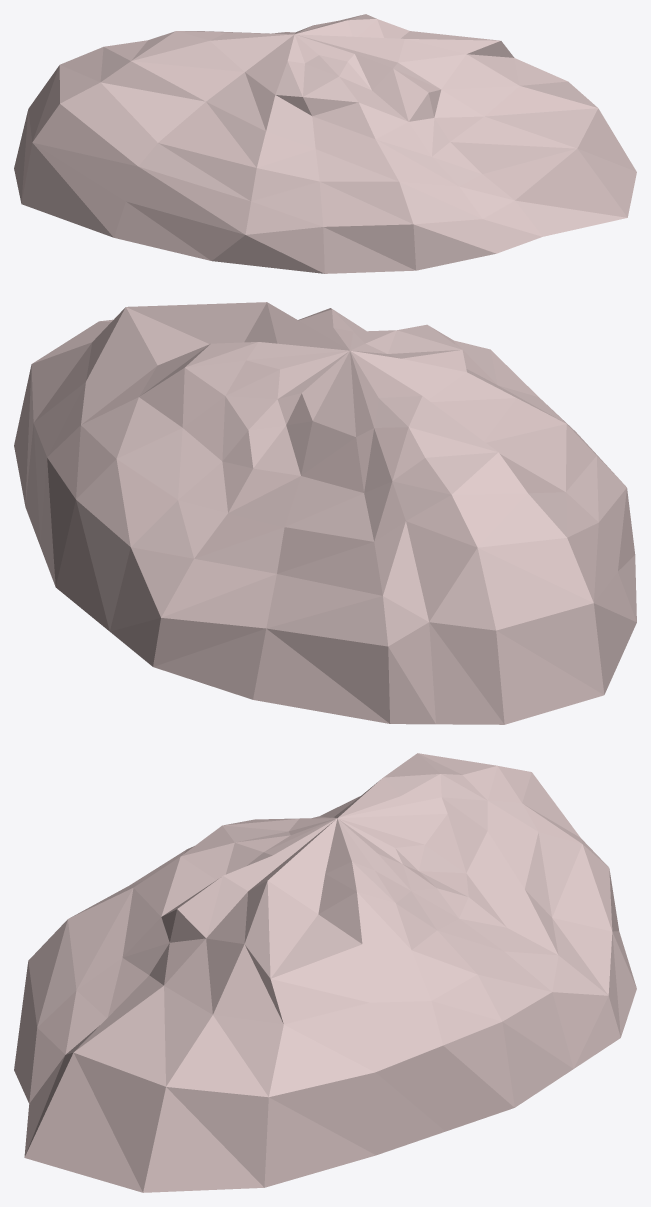
File: Rock.fbx
3 renders of one model, top to bottom at view 1: azimuth 30°, elevation 25°; view 2: azimuth 150°, elevation 25°; view 3: azimuth 270°, elevation 25°, orthographic. The views are drawn at different scales.
Parts seen in each view (by area): view 1: Model; view 2: Model; view 3: Model.
Part boxes in pixels (x1,y1,x2,y2): Model: (14,14,636,273); Model: (14,302,636,724); Model: (14,753,636,1192).
Size of the model in its own units: 3.36 by 0.9753 by 2.76.
